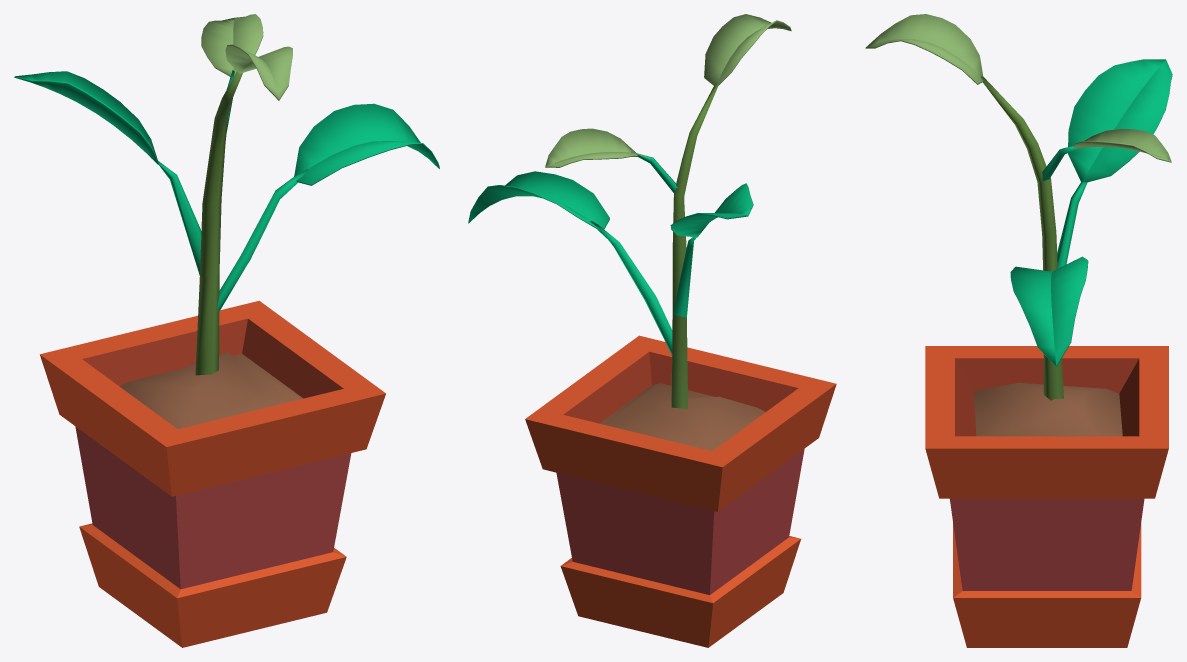
Rendered from sapling.fbx.
3 renders of one model, left to right at view 1: azimuth 30°, elevation 25°; view 2: azimuth 150°, elevation 25°; view 3: azimuth 270°, elevation 25°, orthographic. The views are drawn at different scales.
Parts seen in each view (by area): view 1: Plant1; view 2: Plant1; view 3: Plant1.
Boxes of the visible parts, <box> form: Plant1: <box>14,14,439,647</box>; Plant1: <box>468,14,836,647</box>; Plant1: <box>865,14,1172,647</box>.
Bounding box in the file's own units: 0.6798 × 1.07 × 0.511.
